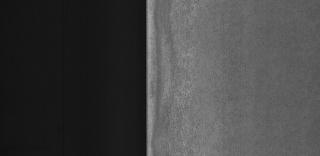silk spot: (162, 11, 214, 151)
